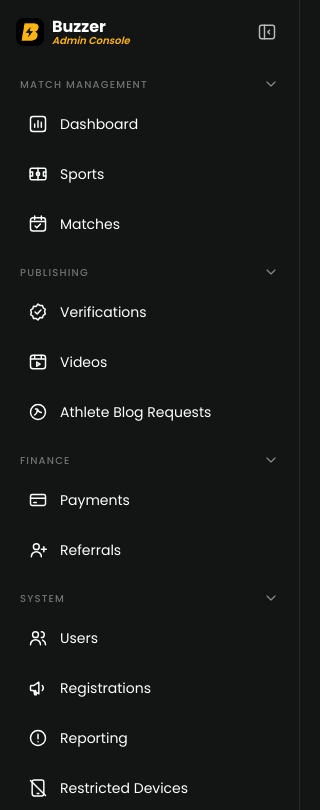
Test: SidebarComponent › should collapse when the toggle is clicked
The width and height of the screenshot is (320, 810).
Click the button with class "sidebar__toggle": (267, 32) 251,16 -> 283,48
(page scrolled)
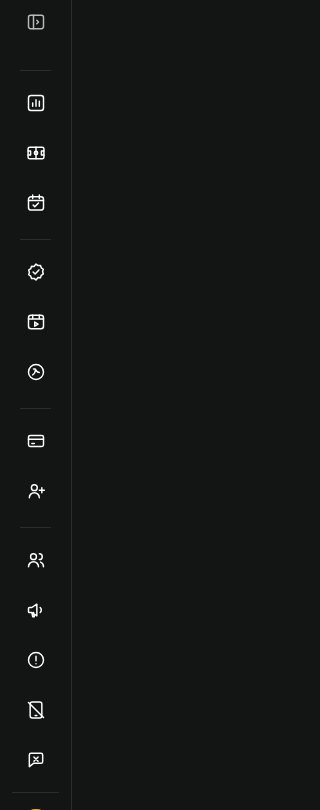
Result: the text with class "sidebar__group-label" is gone
